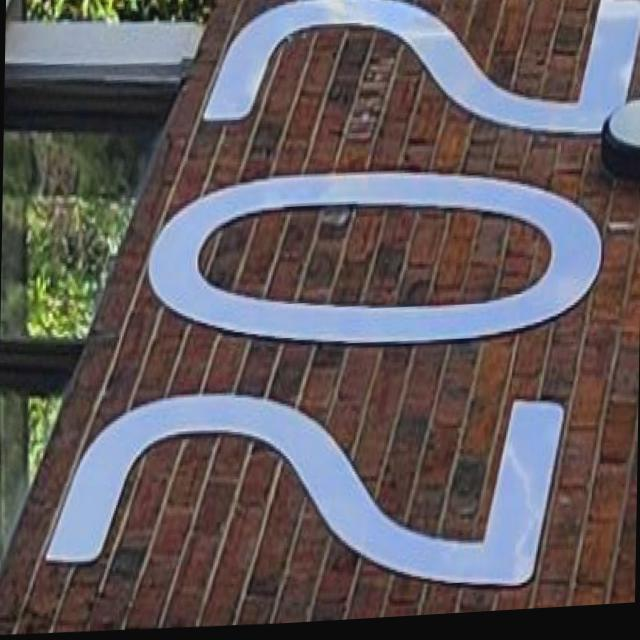character: (36, 357, 576, 629), (138, 143, 608, 370), (188, 0, 640, 165)
